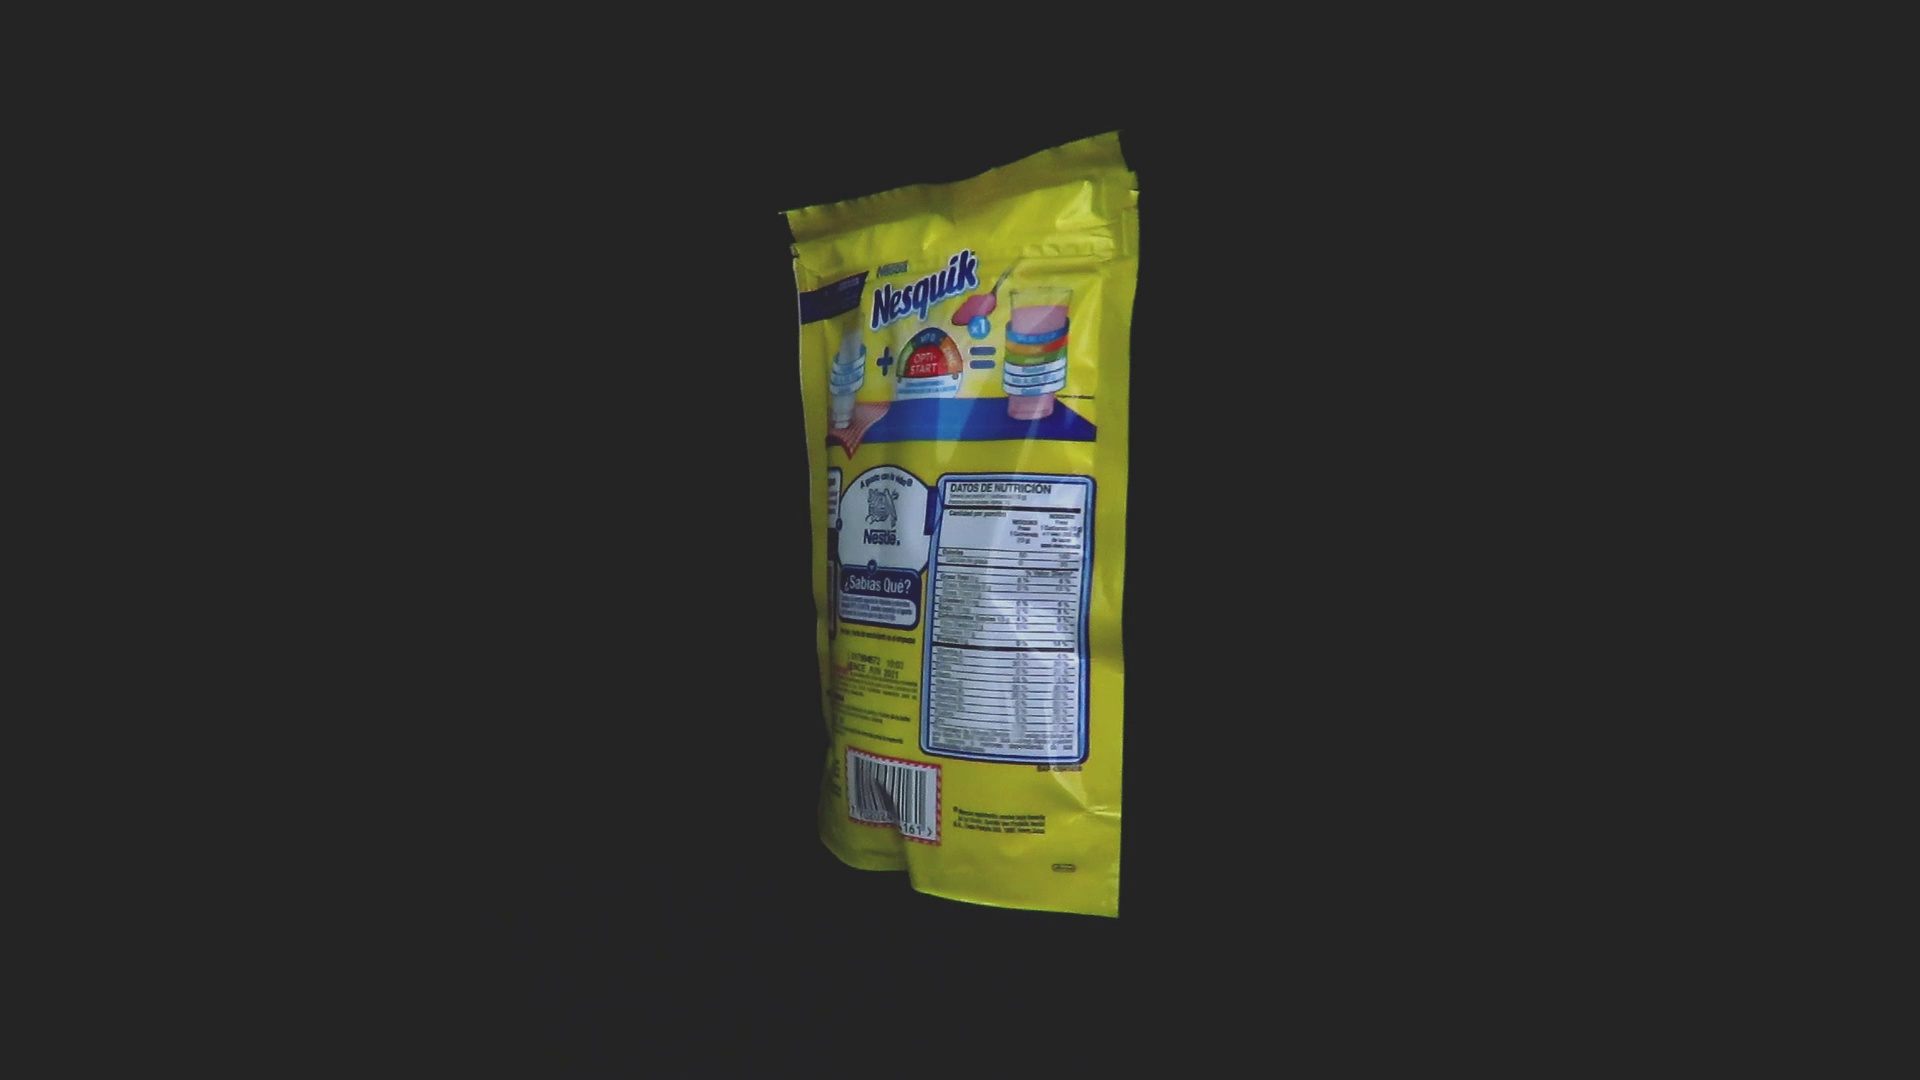COL0170305DYP20000: (773, 124, 1146, 924)
